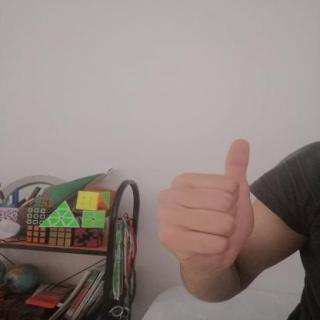ALIF: (143, 128, 273, 280)
